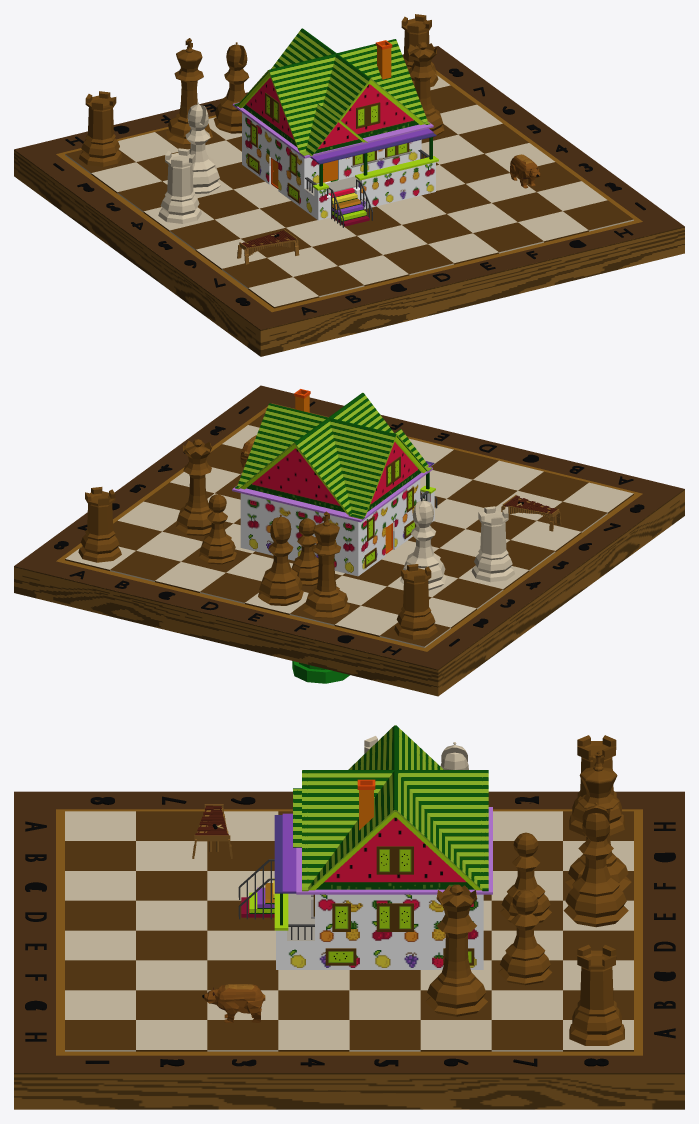
3 views of the same model, one above another, from view 1: azimuth 30°, elevation 25°; view 2: azimuth 150°, elevation 25°; view 3: azimuth 270°, elevation 25° (orthographic). The views are drawn at different scales.
Parts seen in each view (by area): view 1: Cube.002, Cube.1063, OBJRANDOM_MARIMBA, ANIMAL_OSO; view 2: Cube.002, Cube.1063, OBJRANDOM_MARIMBA, UNDERGROUND_PIPES; view 3: Cube.002, Cube.1063, ANIMAL_OSO, OBJRANDOM_MARIMBA.
Part boxes in pixels (bbox=[...]): Cube.002: bbox=[14, 14, 684, 356]; Cube.1063: bbox=[232, 28, 438, 227]; OBJRANDOM_MARIMBA: bbox=[237, 229, 299, 264]; ANIMAL_OSO: bbox=[510, 154, 540, 188]; Cube.002: bbox=[14, 385, 684, 696]; Cube.1063: bbox=[232, 389, 437, 576]; OBJRANDOM_MARIMBA: bbox=[501, 495, 561, 531]; UNDERGROUND_PIPES: bbox=[292, 661, 349, 683]; Cube.002: bbox=[14, 735, 684, 1109]; Cube.1063: bbox=[238, 725, 492, 969]; ANIMAL_OSO: bbox=[202, 984, 265, 1022]; OBJRANDOM_MARIMBA: bbox=[192, 804, 232, 858].
Size of the model in its own units: 3981 by 2068 by 4012.
26 materials, 4 textured.
